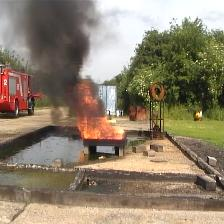fire: (68, 81, 125, 140)
